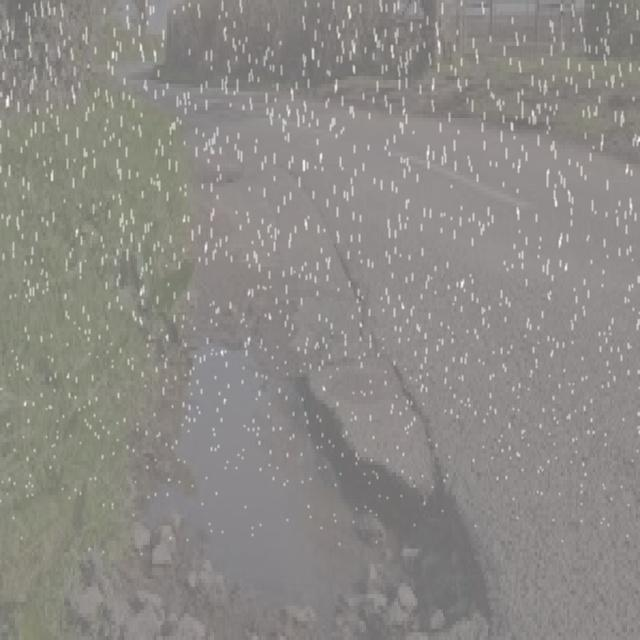Pothole: (125, 325, 494, 640)
